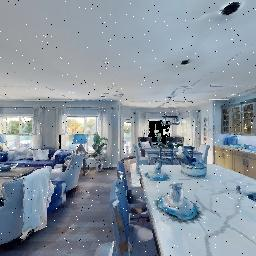chair: (89, 187, 167, 256), (102, 167, 159, 225), (131, 137, 151, 173)
sofa: (0, 158, 62, 256), (45, 152, 95, 202)
